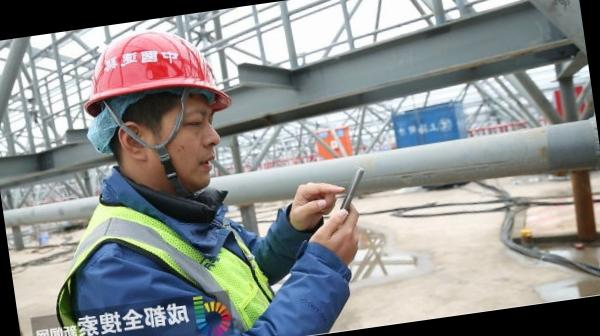helmet: (74, 15, 237, 128)
wear: (47, 184, 270, 336)
